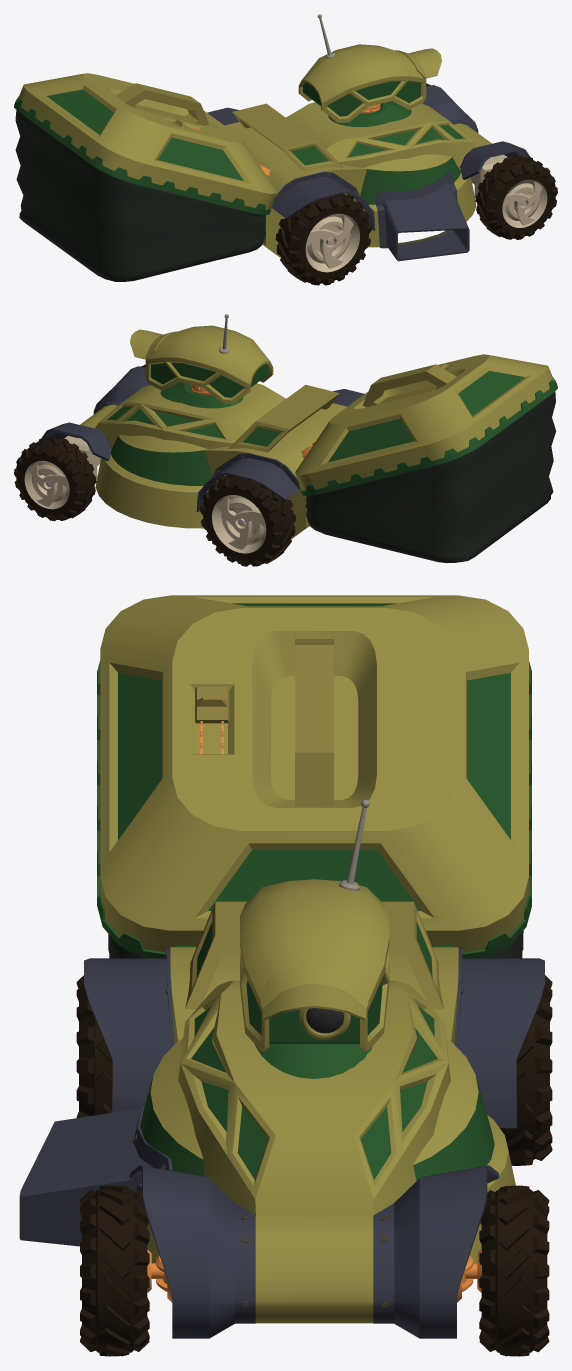
File: Lawn mower.fbx
The picture shows the model from 3 angles, top to bottom: view 1: azimuth 30°, elevation 25°; view 2: azimuth 150°, elevation 25°; view 3: azimuth 270°, elevation 25°; orthographic projection. The views are drawn at different scales.
Parts seen in each view (by area): view 1: Cube.006, Cube.002, Cube.012, Cube.005, Cube.009, Cylinder.006, Cylinder.002, Cylinder, Cube.004, Cube.003, Cube.016, Cube.007 (+10 smaller); view 2: Cube.006, Cube.002, Cylinder.002, Cube.012, Cube.005, Cylinder.006, Cylinder, Cube.004, Cube.003, Cube.016, Cube.007, Cube.014 (+9 smaller); view 3: Cube.002, Cube.005, Cube.014, Cube.016, Cube.012, Cylinder.007, Cube.008, Cylinder.002, Cube.009, Cylinder, Plane, Cube.003 (+7 smaller).
Part boxes in pixels (x1,y1,x2,y2): Cube.006: (15, 110, 265, 281); Cube.002: (17, 73, 276, 209); Cube.012: (298, 44, 426, 123); Cube.005: (286, 102, 476, 170); Cube.009: (375, 171, 469, 261); Cylinder.006: (278, 193, 368, 283); Cylinder.002: (360, 154, 476, 247); Cylinder: (477, 157, 555, 238); Cube.004: (224, 122, 366, 257); Cube.003: (232, 103, 343, 171); Cube.016: (207, 107, 375, 230); Cube.007: (14, 96, 272, 214); Cube.006: (305, 391, 555, 563); Cube.002: (295, 354, 554, 490); Cylinder.002: (95, 435, 211, 528); Cube.012: (145, 325, 273, 404); Cube.005: (95, 383, 285, 448); Cylinder.006: (203, 475, 293, 564); Cylinder: (16, 438, 94, 519); Cube.004: (205, 403, 346, 539); Cube.003: (228, 384, 339, 452); Cube.016: (196, 389, 364, 512); Cube.007: (299, 377, 557, 496); Cube.014: (41, 366, 149, 461); Cube.002: (100, 595, 528, 951); Cube.005: (178, 980, 450, 1216); Cube.014: (129, 1165, 499, 1338); Cube.016: (84, 947, 544, 1128); Cube.012: (240, 879, 389, 1051); Cylinder.007: (80, 1185, 549, 1356); Cube.008: (255, 1216, 373, 1323); Cylinder.002: (140, 1038, 515, 1263); Cube.009: (19, 1105, 172, 1246); Cylinder: (82, 1189, 547, 1352); Plane: (295, 639, 333, 806); Cube.003: (185, 901, 443, 1009).
Bounding box in the file's own units: 650 × 288 × 334.
